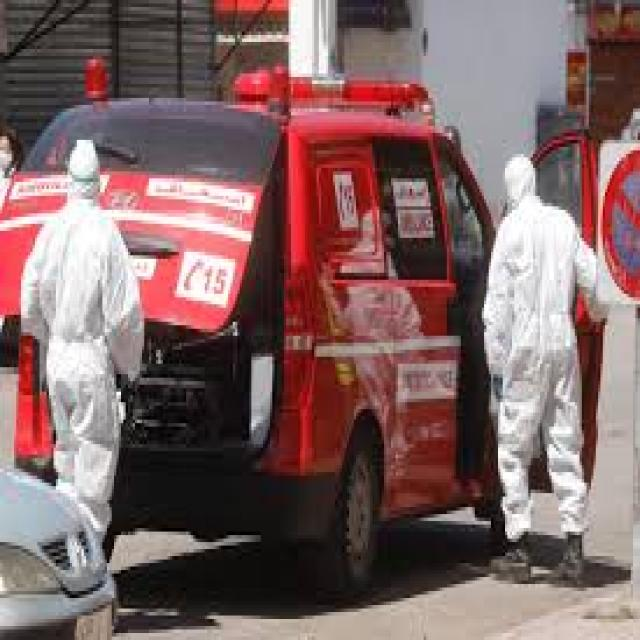ambulance: (18, 60, 492, 525)
